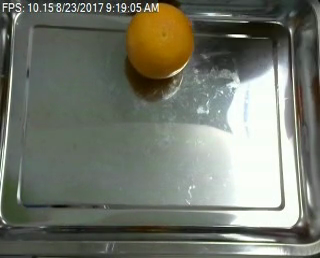Orange: (124, 4, 193, 78)
